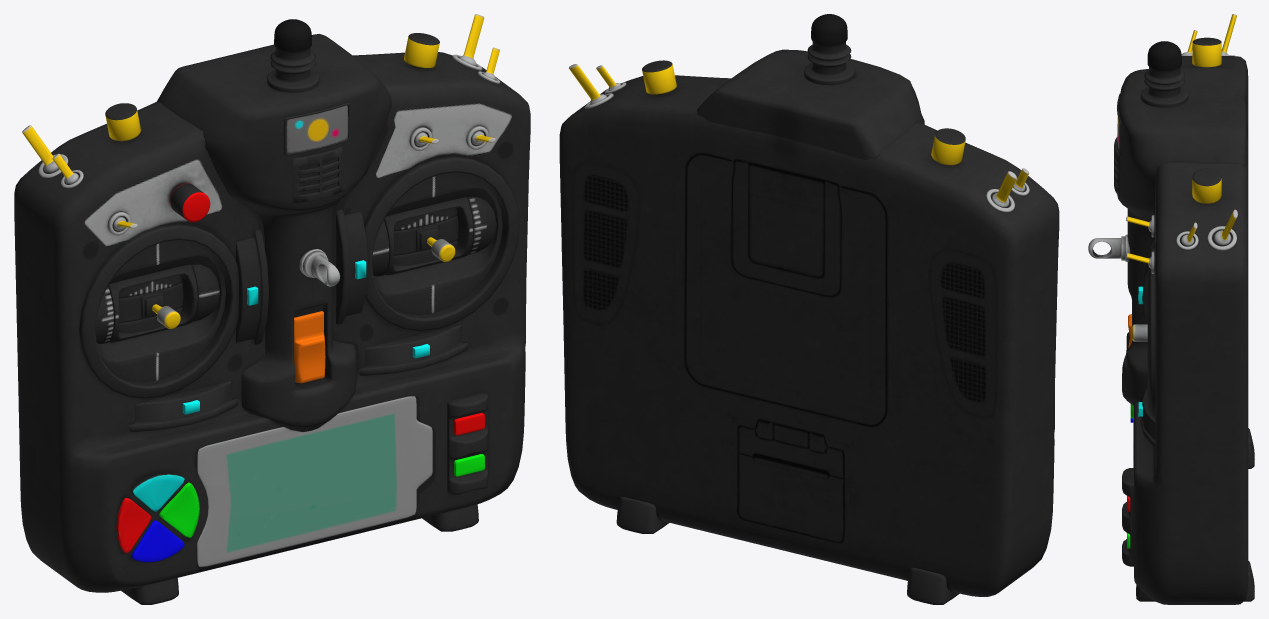
Rendered from RC Car remote.fbx.
3 renders of one model, left to right at view 1: azimuth 30°, elevation 25°; view 2: azimuth 150°, elevation 25°; view 3: azimuth 270°, elevation 25°, orthographic. The views are drawn at different scales.
Visible parts, largest first — view 1: rc car cake; view 2: rc car cake; view 3: rc car cake.
Part boxes in pixels (<box>): rc car cake: <box>14,14,530,604</box>; rc car cake: <box>559,14,1059,604</box>; rc car cake: <box>1088,14,1254,604</box>.
Bounding box in the file's own units: 17.37 × 18.73 × 5.84.
Materials: 1 (1 with a texture image).
